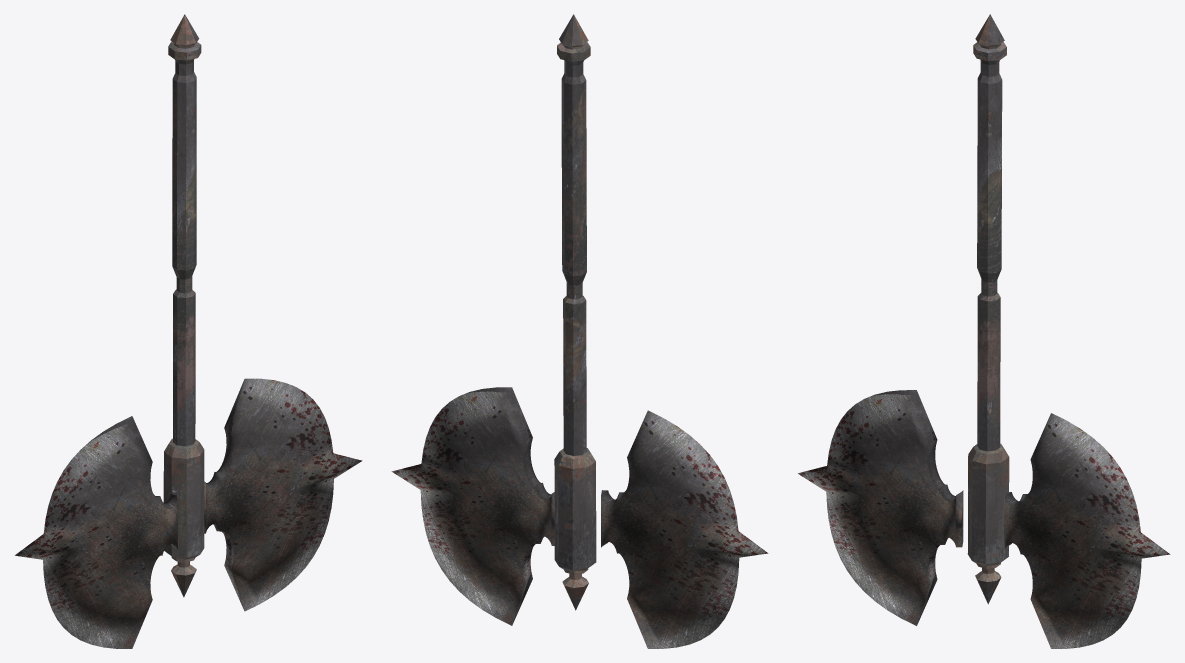
Rendered from DOUBLE SIDED AXE.fbx.
3 views of the same model, side by side, from view 1: azimuth 30°, elevation 25°; view 2: azimuth 150°, elevation 25°; view 3: azimuth 330°, elevation 25° (orthographic). The views are drawn at different scales.
Visible parts, largest first — view 1: BezierCurve.000, Circle; view 2: BezierCurve.000, Circle; view 3: BezierCurve.000, Circle.
Part boxes in pixels (x1,y1,x2,y2): BezierCurve.000: (15, 378, 362, 648); Circle: (163, 14, 204, 597); BezierCurve.000: (391, 387, 768, 648); Circle: (554, 14, 596, 610); BezierCurve.000: (798, 390, 1170, 648); Circle: (967, 14, 1009, 604).
Bounding box in the file's own units: 2573 × 4200 × 281.
2 materials, 2 textured.
